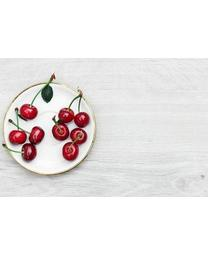cherry: (70, 127, 88, 144), (52, 123, 69, 140), (29, 126, 44, 144), (21, 144, 37, 160), (10, 129, 27, 144), (73, 111, 89, 126), (63, 143, 78, 159), (59, 107, 73, 124), (21, 105, 37, 119)
